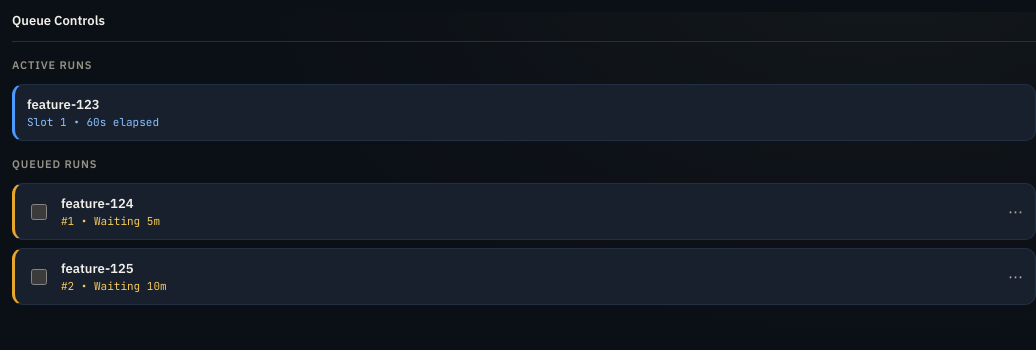
Test: QueueAdvancedControls › Per-Run Actions › disables actions while processing
Click the button named "Toggle controls" at (1016, 212), box [1008,202,1023,221]
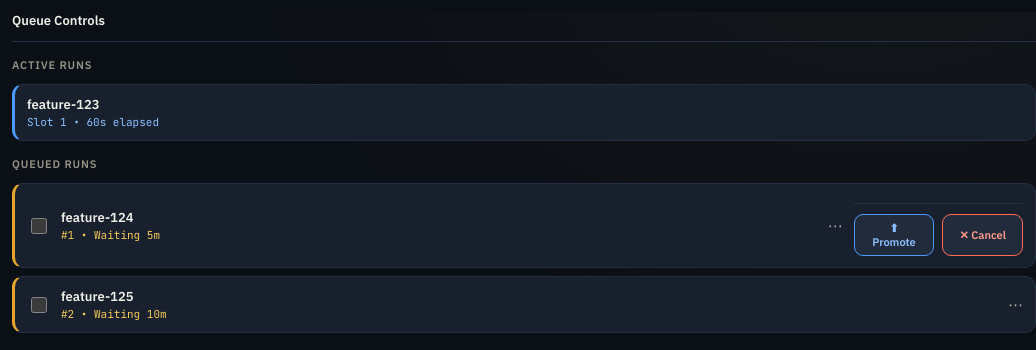
Click the button "⬆ Promote" at (894, 235), box [854,214,934,256]
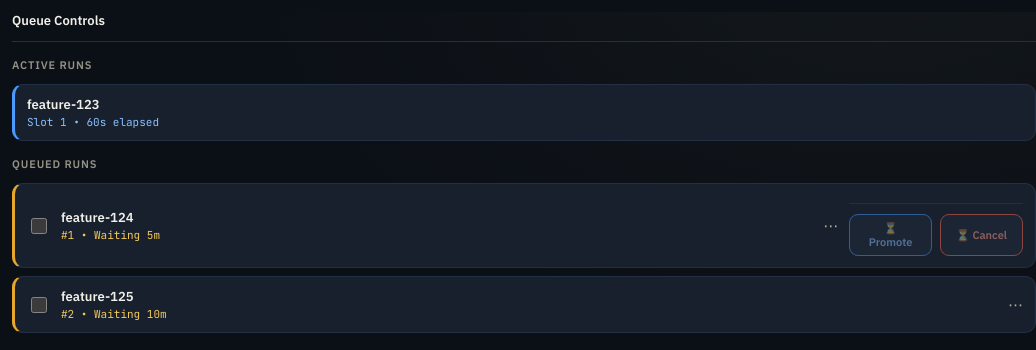
Expected: the button "⏳ Promote" is disabled, [849,214,932,256]
